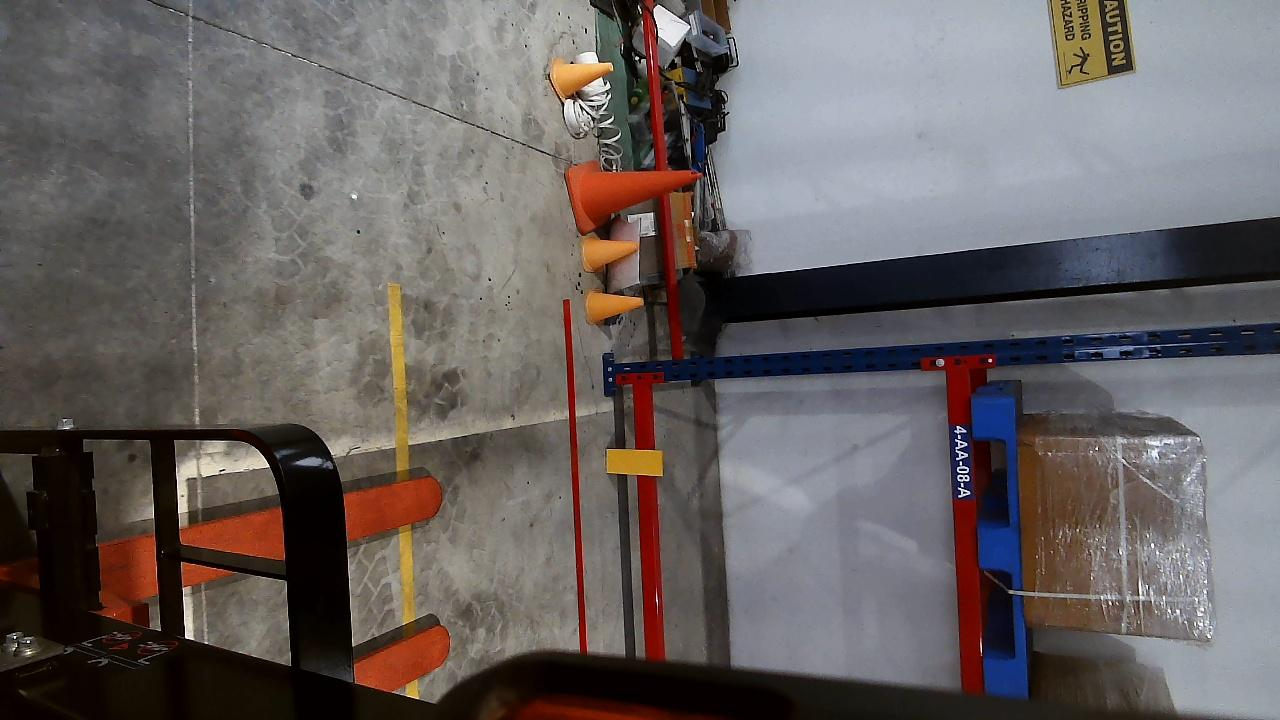h_rack: (944, 367, 988, 694), (632, 382, 665, 657)
orange_strip: (604, 448, 663, 475)
red_line: (560, 299, 590, 657)
small_pallet: (972, 389, 1034, 691)
yellow_line: (384, 281, 422, 696)
